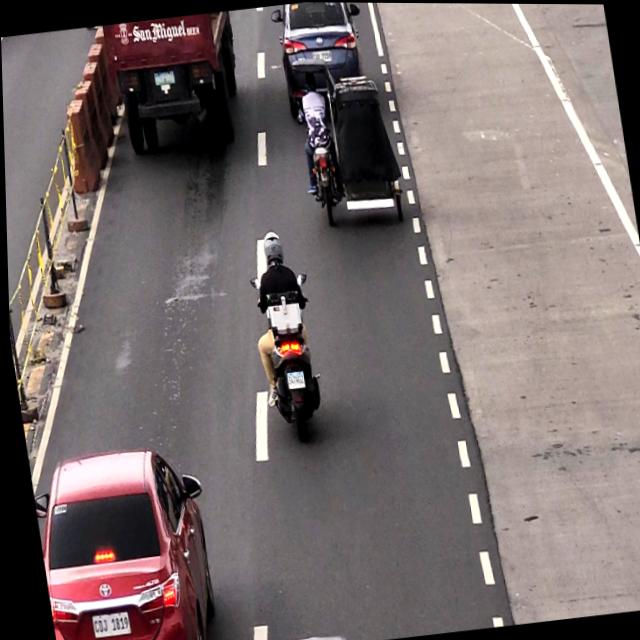Car: (25, 441, 220, 640), (275, 2, 366, 89)
License-Plate: (85, 605, 128, 640), (283, 370, 306, 389), (311, 47, 333, 66)
Motorcycle: (245, 225, 324, 446)
Tricycle: (297, 69, 403, 233)
Truck: (101, 9, 252, 152)
